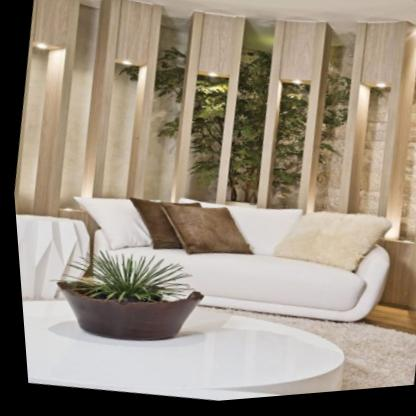Sofa: (64, 167, 398, 351)
Wall Panel: (1, 0, 416, 257)
